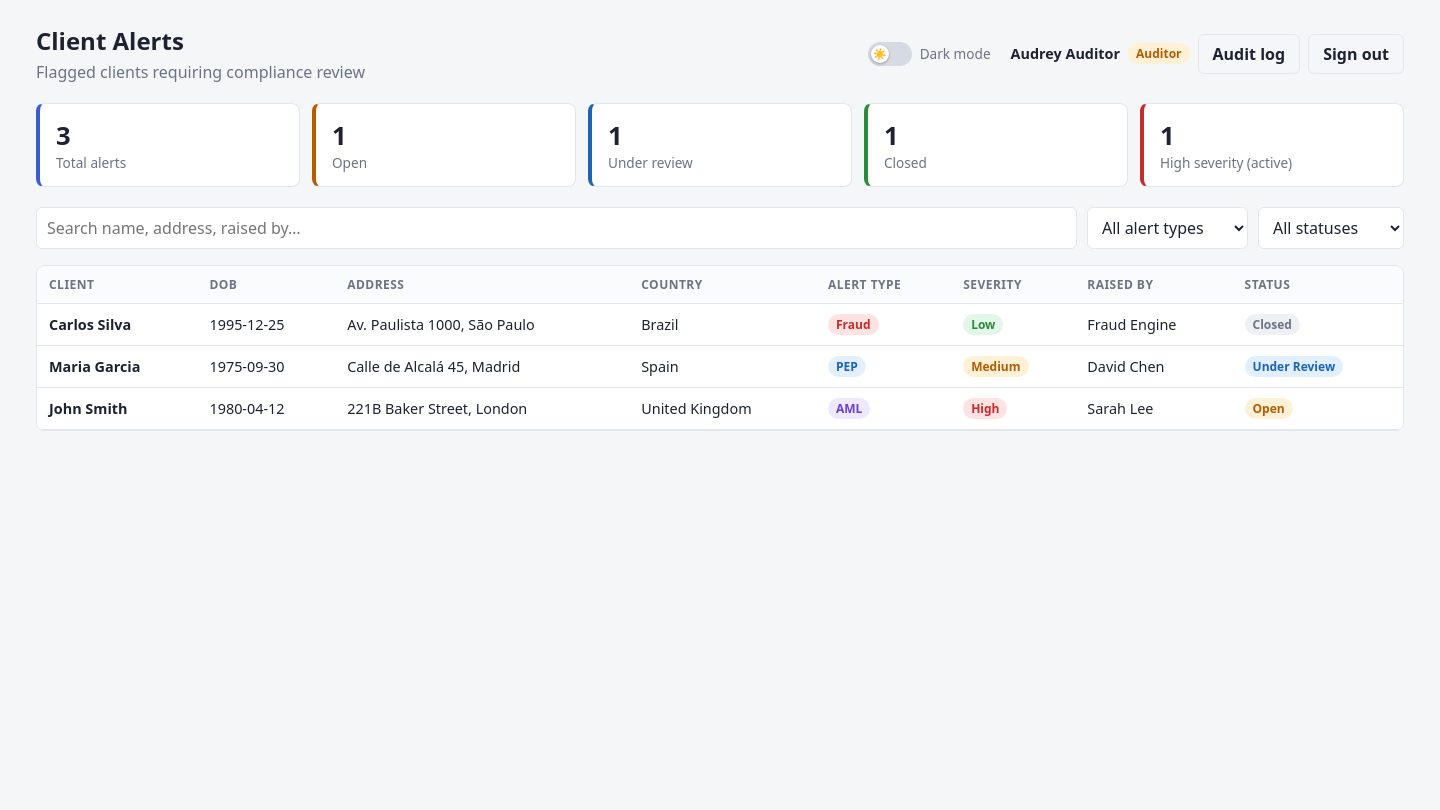
Test: audit log screen › lists entries with readable actions and targets
Expected: the text "John Smith" is shown, x1=37 y1=388 x2=197 y2=430
What coordinates should you click on to do the following:
click the button "Audit log"
I would click on:
 (1249, 54)
Its box is x1=1198 y1=34 x2=1300 y2=74.
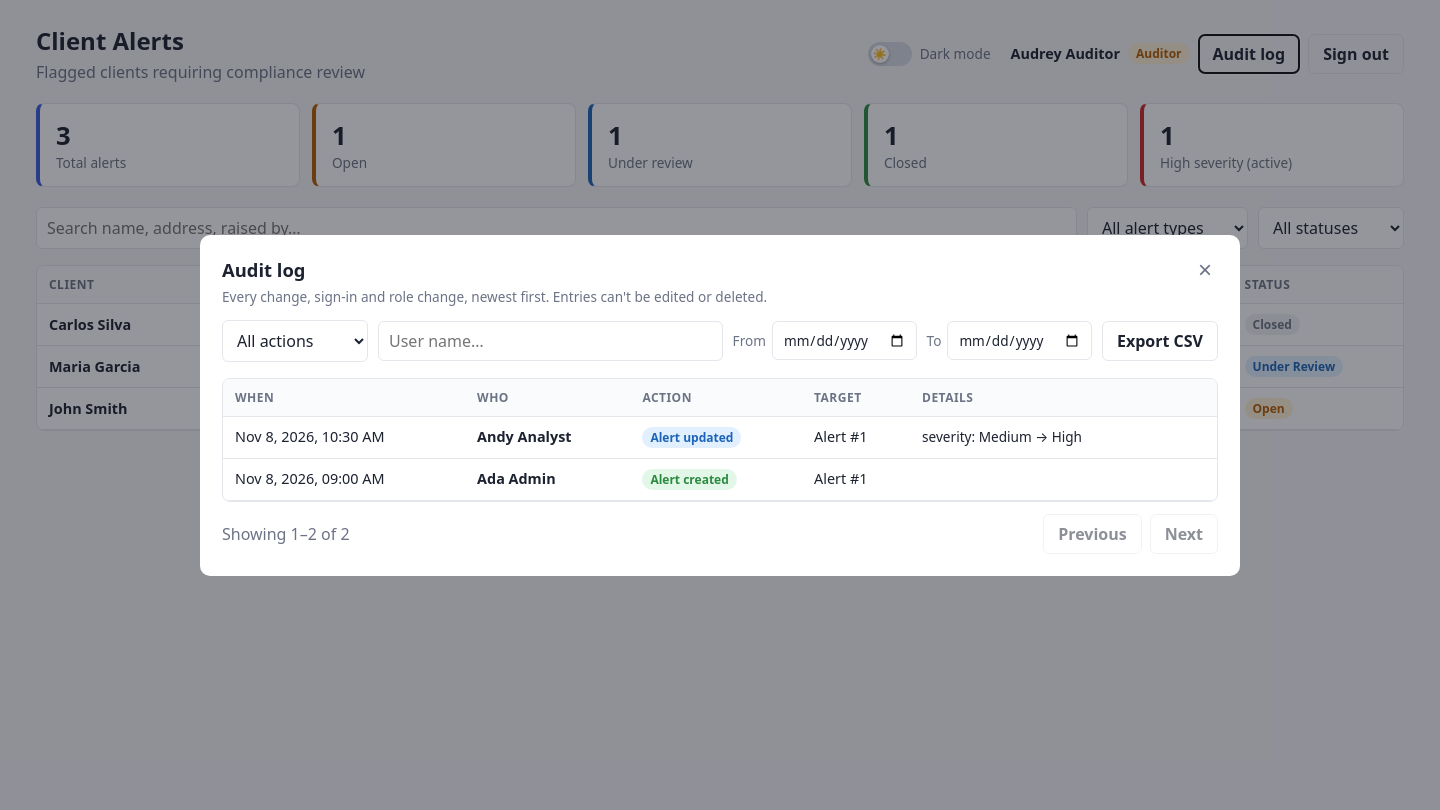
Expected: the text "Andy Analyst" is shown, x1=465 y1=416 x2=630 y2=458
Expected: the text "Alert updated" is shown, x1=642 y1=426 x2=741 y2=448
Expected: the text "Alert #1" in the row of "Nov 8, 2026, 10:30 AM" is shown, x1=814 y1=426 x2=867 y2=446
